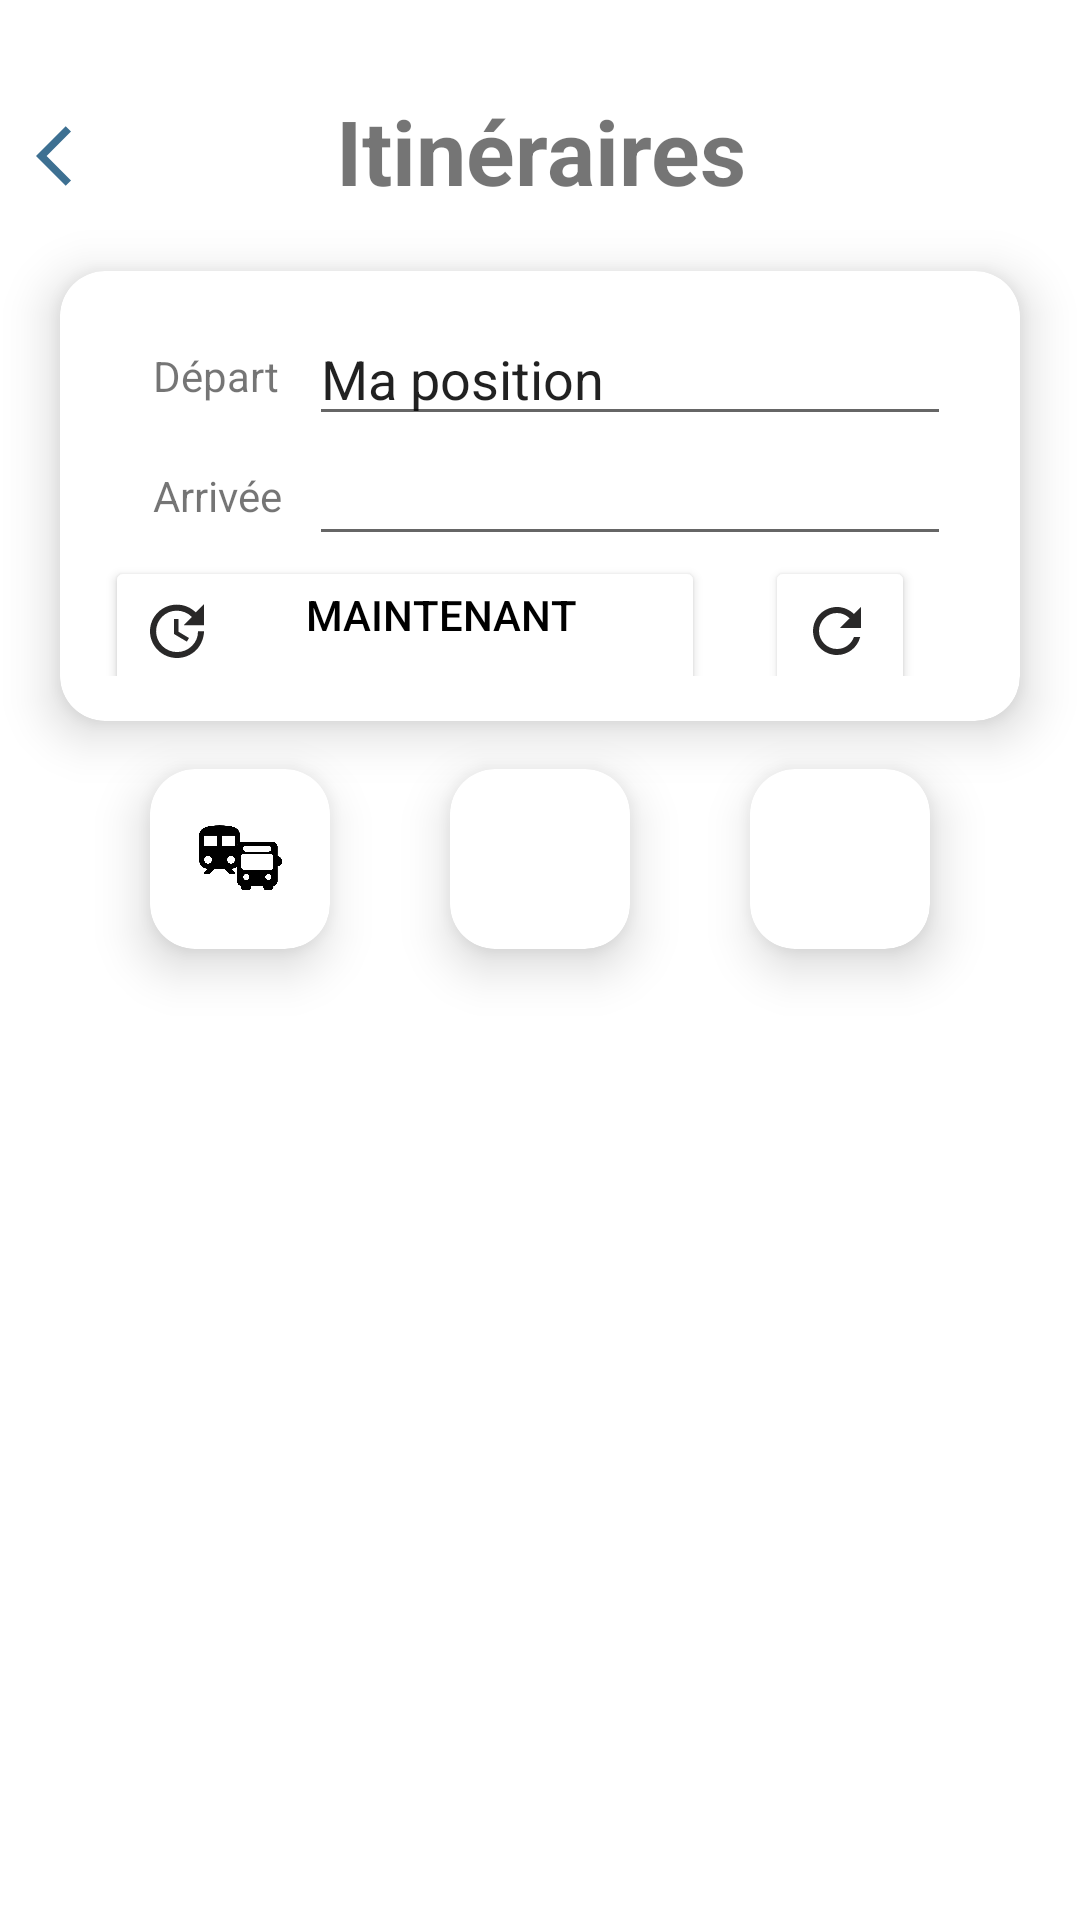

Icons on this 1080 x 1920 Android screen, each with the point to tap as (x=x, y=y):
arrow back app: (x=53, y=156)
train: (x=240, y=857)
